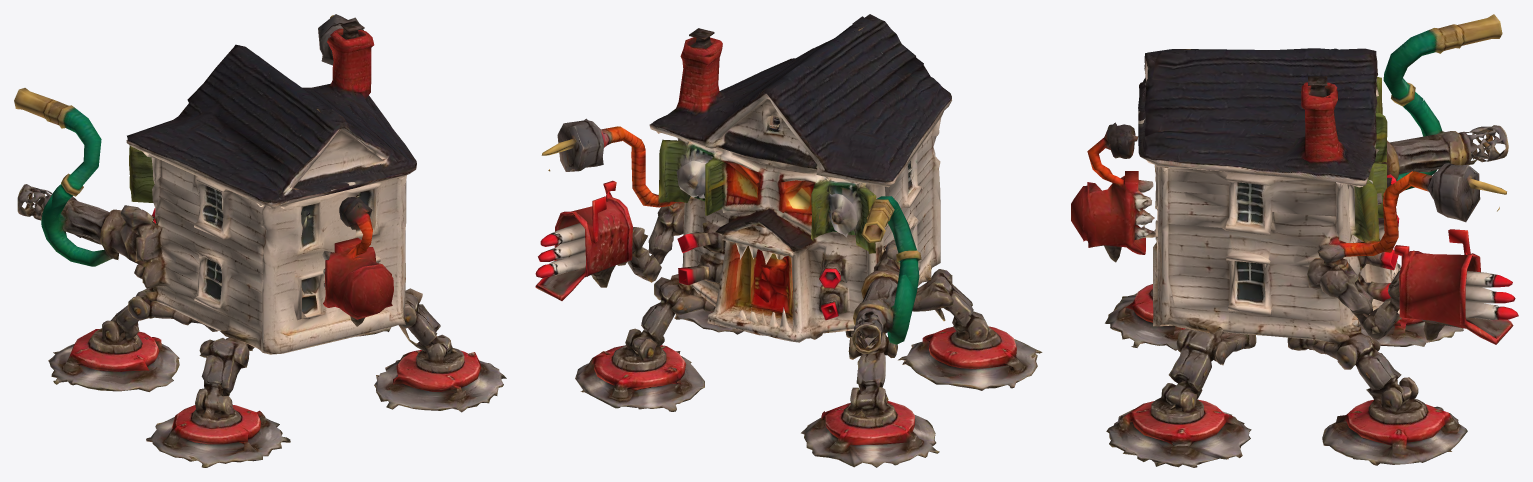
Rendered from carl.glb.
The picture shows the model from 3 angles, left to right: view 1: azimuth 30°, elevation 25°; view 2: azimuth 150°, elevation 25°; view 3: azimuth 270°, elevation 25°; orthographic projection. The views are drawn at different scales.
Visible parts, largest first — view 1: model; view 2: model; view 3: model.
Part boxes in pixels (x1,y1,x2,y2): model: [14, 14, 506, 467]; model: [535, 14, 1042, 467]; model: [1071, 14, 1518, 467].
Bounding box in the file's own units: 0.9674 × 0.8497 × 1.
1 material, 1 textured.
